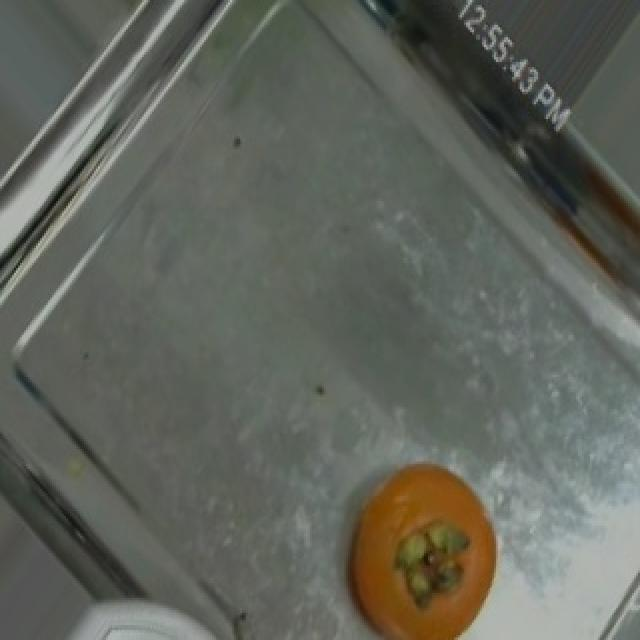Fruit: (324, 442, 522, 638)
